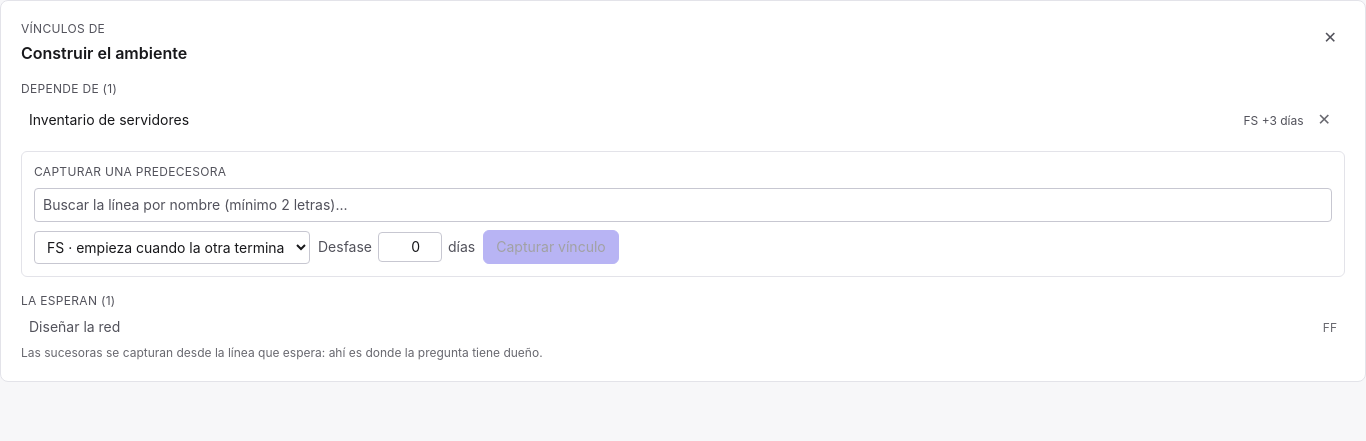
it: Capturar › un resumen se puede elegir pero llega marcado: casi siempre es un error de puntería
The image size is (1366, 441).
Type "bloque" into the field named "Buscar la línea predecesora" at (683,205), box [34,188,1332,222]
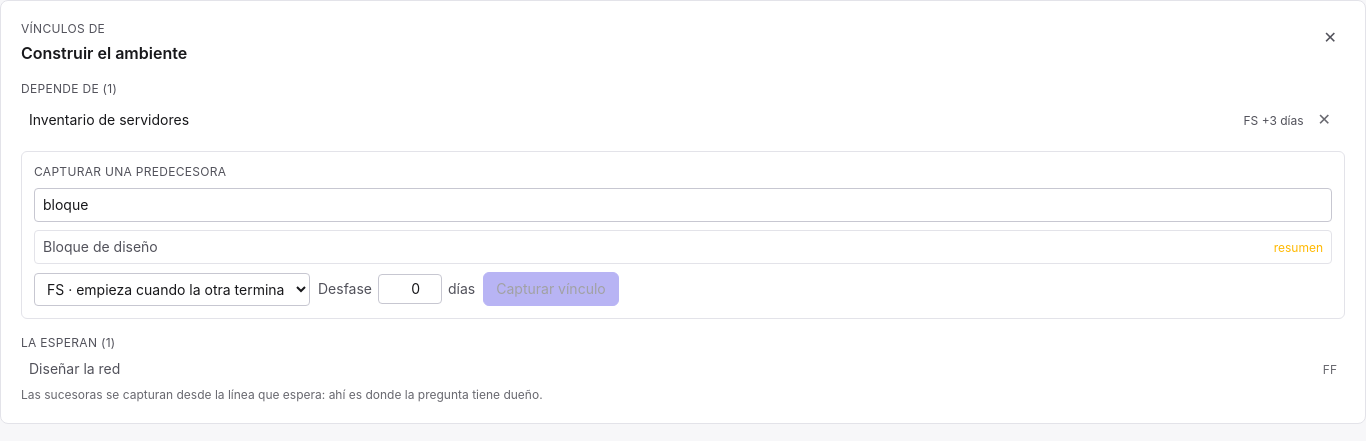
Expected: the text "resumen" is shown, [1274,240,1323,256]
